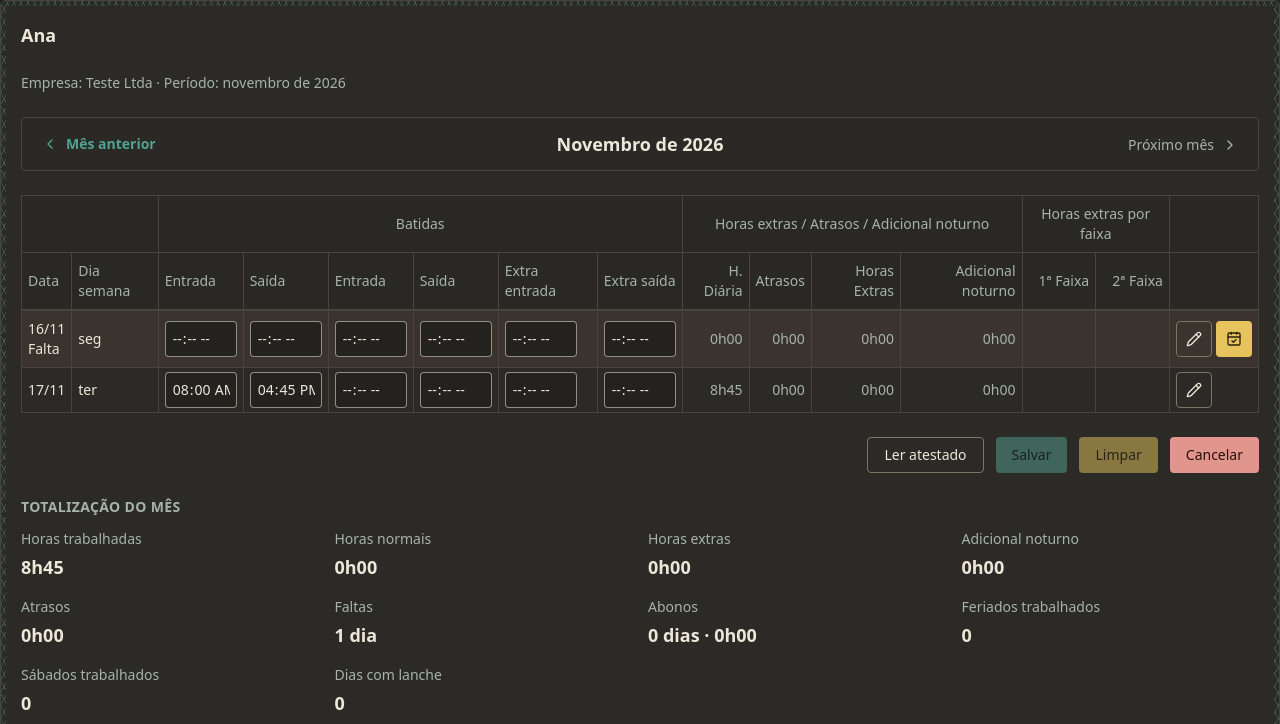
Scenario: CartaoDePontoContainer › erro do servidor aparece no cartão
Click the button named "Editar seg 16/11": (1194, 339) [1176,321,1212,357]
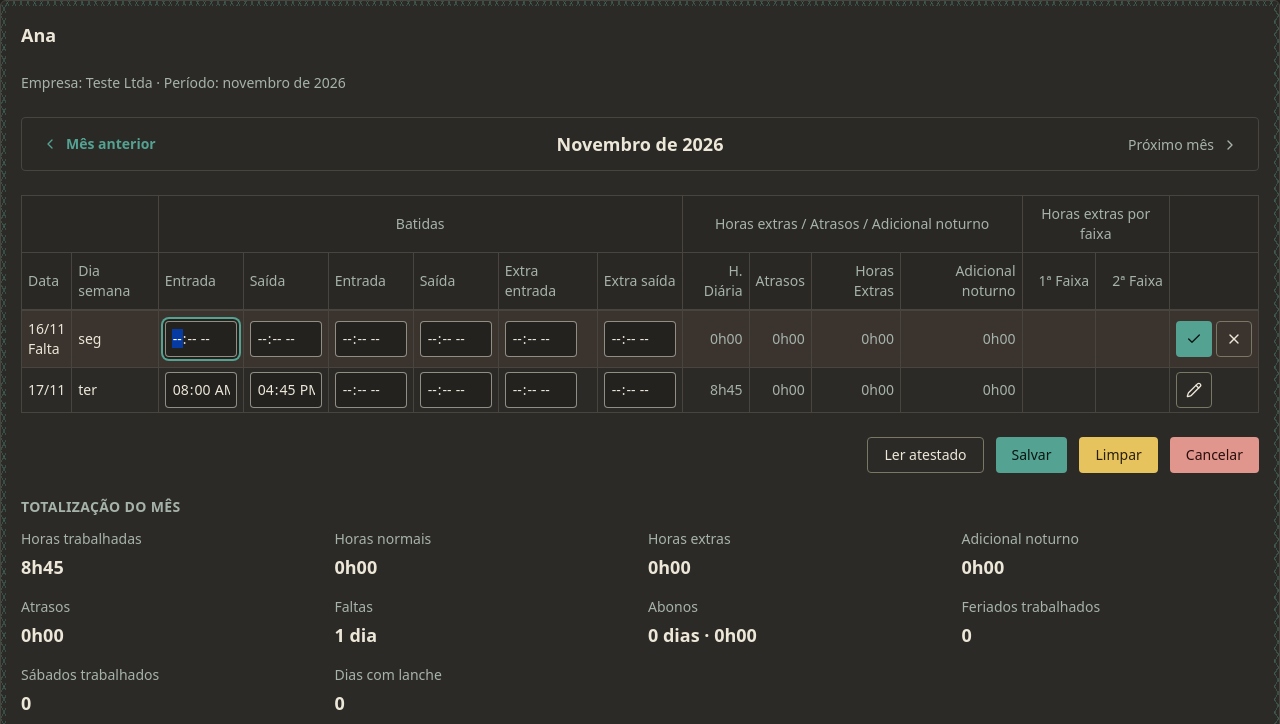
Click the button named "Salvar seg 16/11": (1194, 339) [1176,321,1212,357]
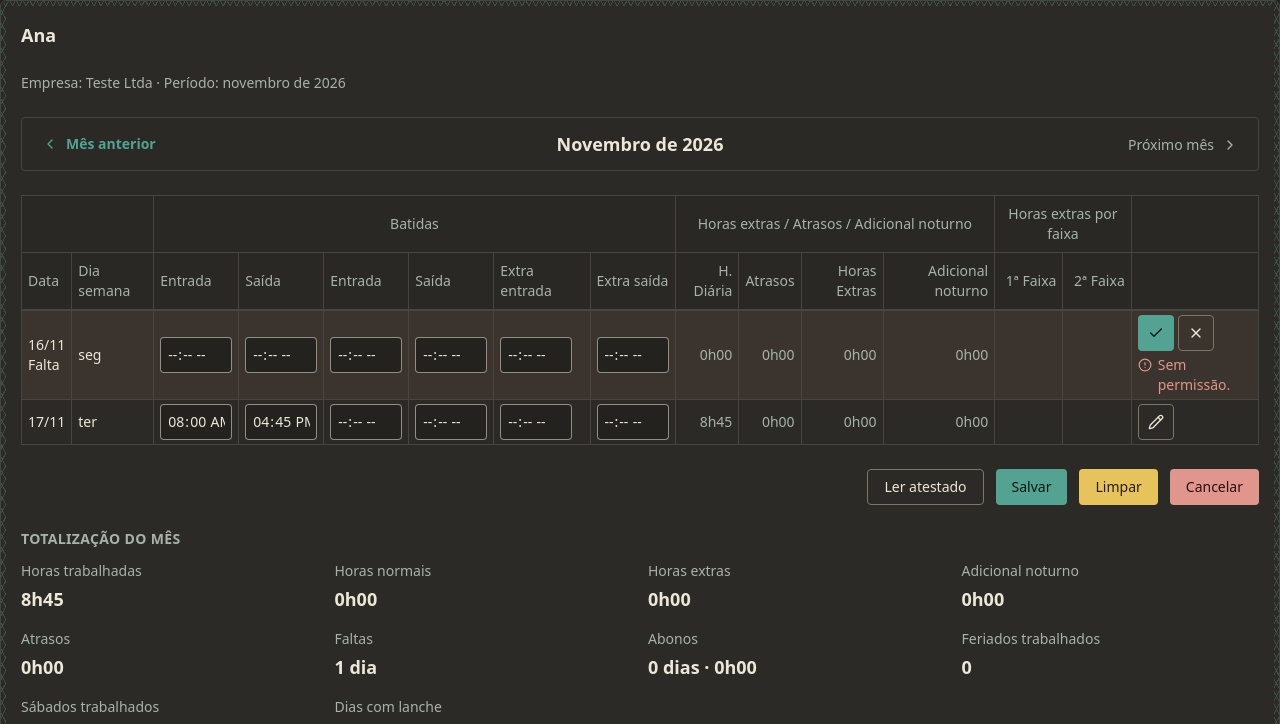
Expected: the message reads "Sem permissão.", [1158,355,1230,394]
